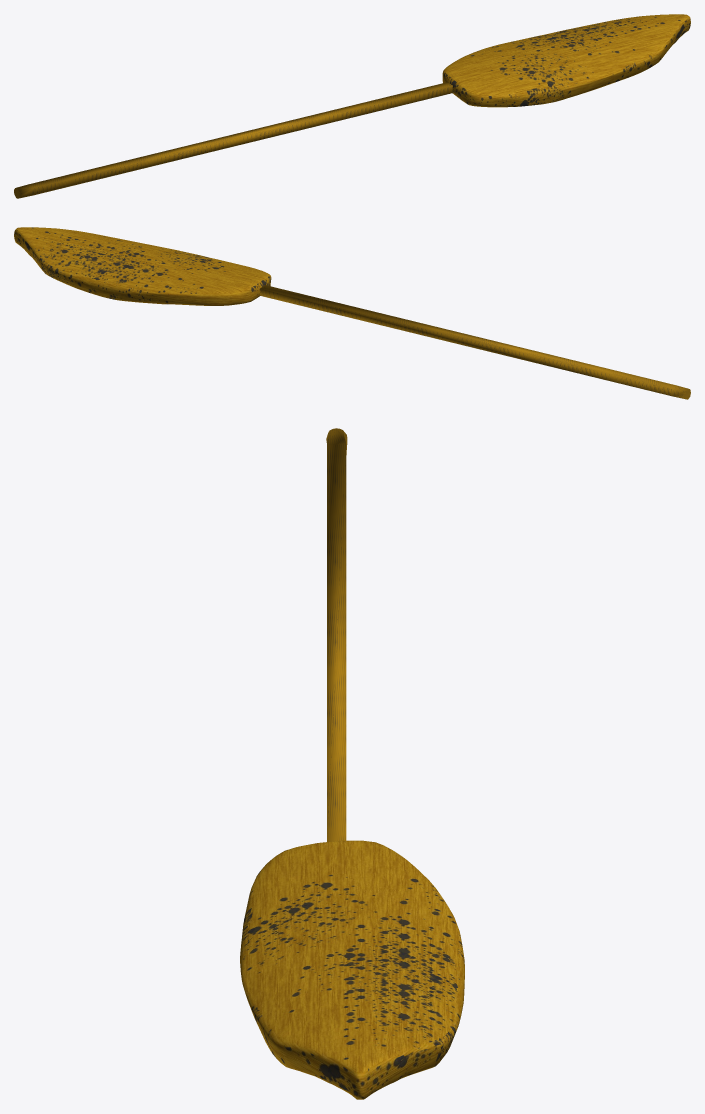
Rendered from rowing_oar.glb.
The picture shows the model from 3 angles, top to bottom: view 1: azimuth 30°, elevation 25°; view 2: azimuth 150°, elevation 25°; view 3: azimuth 270°, elevation 25°; orthographic projection. The views are drawn at different scales.
Parts seen in each view (by area): view 1: LOD0; view 2: LOD0; view 3: LOD0.
Part boxes in pixels (x1,y1,x2,y2): LOD0: (14,14,690,198); LOD0: (14,227,690,399); LOD0: (240,428,464,1099).
Size of what is drawn, in the model's own units: 3.2 by 0.1213 by 0.467.
Materials: 2 (2 with a texture image).
